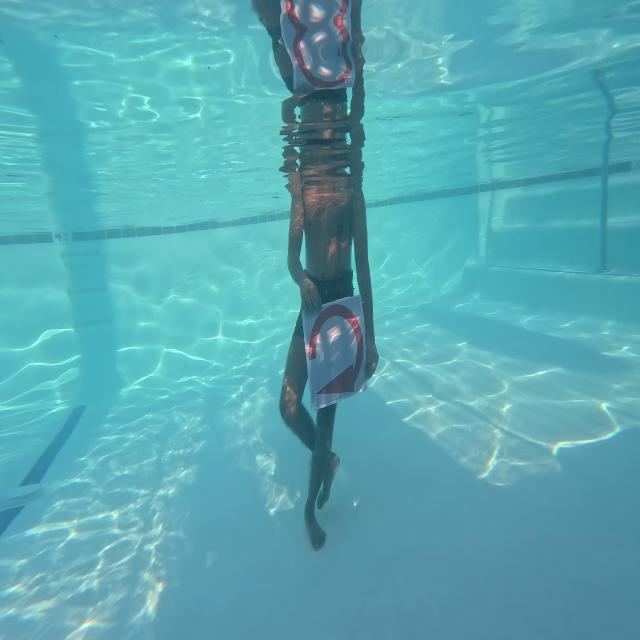red_side: (298, 288, 378, 412)
